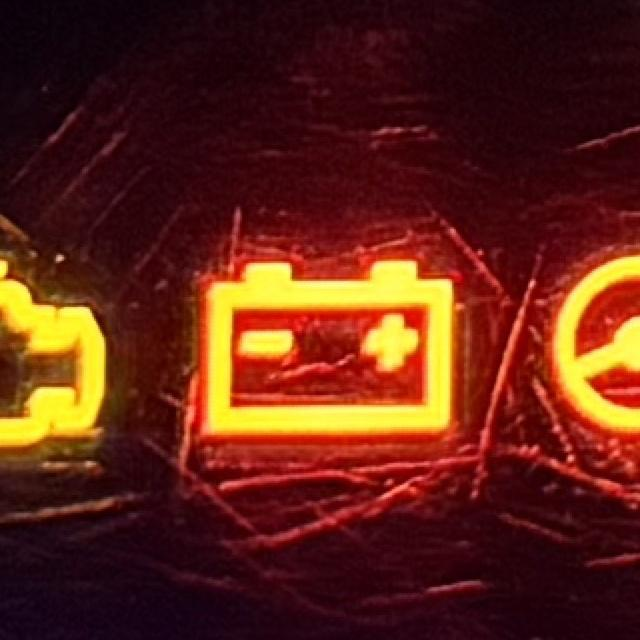Battery Issue: (202, 261, 455, 437)
